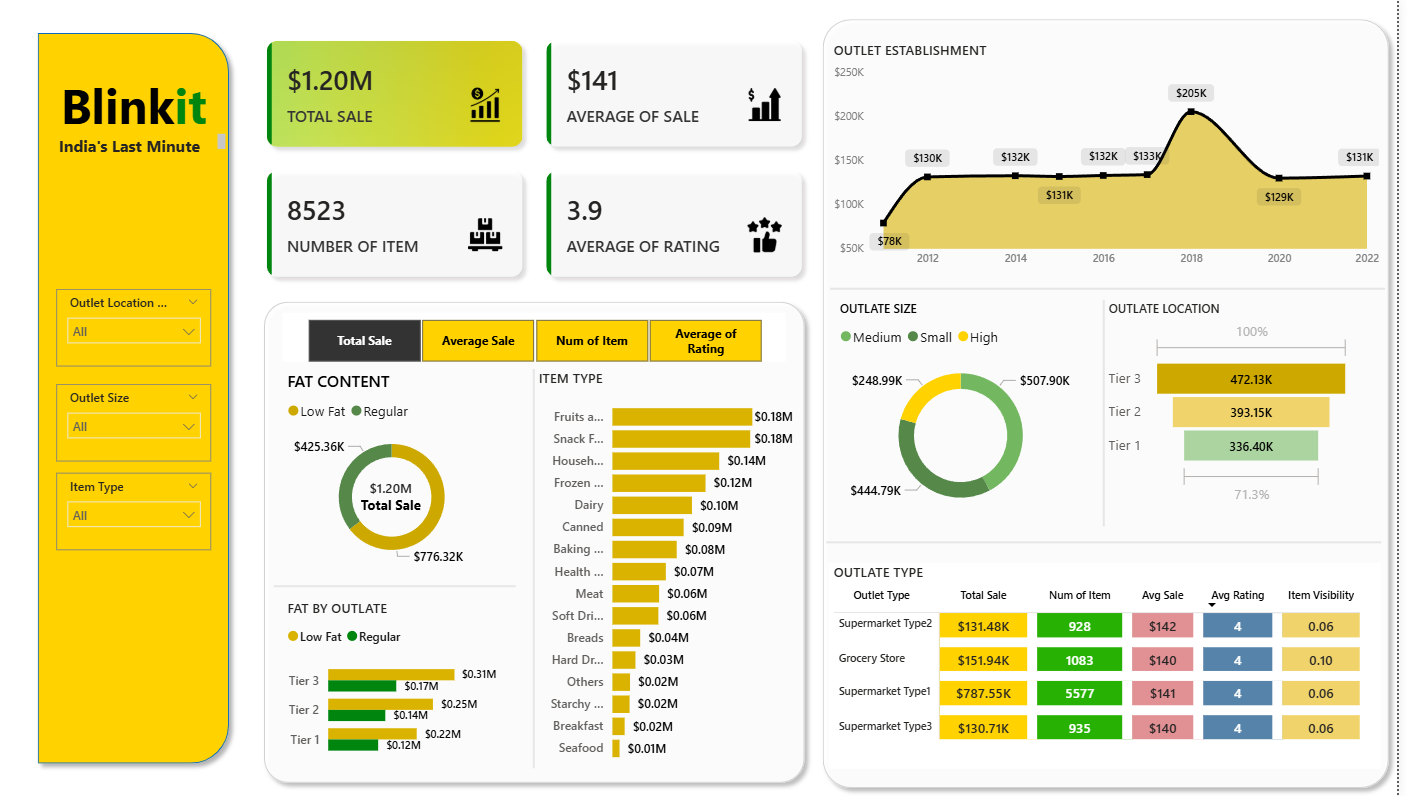

Layout of this report page (visuals, bound fields, positions):
{"tool":"powerbi","page":{"name":"Page 1","canvas":[1400,800],"ordinal":0},"visuals":[{"type":"shape","box":[28.7,24.5,209.6,750],"z":0},{"type":"textbox","box":[44.7,69.1,177.7,76.6],"z":1000},{"type":"textbox","box":[36.2,129.8,194.7,30.9],"z":2000},{"type":"cardVisual","fields":{"Data":["BlinkIT Grocery Data.Total Sale","BlinkIT Grocery Data.Average Sale","BlinkIT Grocery Data.Num of Item","BlinkIT Grocery Data.Average of Rating"]},"box":[250,24.5,570.2,270.2],"z":3000},{"type":"shape","box":[255.3,294.7,559.6,500],"z":4000},{"type":"donutChart","title":"FAT CONTENT","fields":{"Y":["BlinkIT Grocery Data.Total Sale"],"Category":["BlinkIT Grocery Data.Item Fat Content"]},"box":[283,371.3,219.1,205.3],"z":5000},{"type":"slicer","fields":{"Values":["Matrix.Matrix"]},"box":[283,313.8,504.3,48.9],"z":6000},{"type":"cardVisual","fields":{"Data":["BlinkIT Grocery Data.Total Sale"]},"box":[343.6,463.8,97.9,63.8],"z":7000},{"type":"clusteredBarChart","title":"FAT BY OUTLATE","fields":{"Y":["BlinkIT Grocery Data.Total Sale"],"Category":["BlinkIT Grocery Data.Outlet Location Type"],"Series":["BlinkIT Grocery Data.Item Fat Content"]},"box":[283,601.1,219.1,170.2],"z":8000},{"type":"shape","box":[274.5,576.6,242.6,24.5],"z":9000},{"type":"shape","box":[517,371.3,35.1,400],"z":10000},{"type":"barChart","title":"ITEM TYPE","fields":{"Y":["BlinkIT Grocery Data.Total Sale"],"Category":["BlinkIT Grocery Data.Item Type"]},"box":[535.1,371.3,264.9,403.2],"z":11000},{"type":"shape","box":[814.9,11.7,585.1,788.3],"z":12000},{"type":"lineChart","title":" OUTLET ESTABLISHMENT","fields":{"Y":["BlinkIT Grocery Data.Total Sale"],"Category":["BlinkIT Grocery Data.Outlet Establishment Year"]},"box":[830.9,41.5,556.4,236.2],"z":13000},{"type":"shape","box":[831.9,277.7,556.4,24.5],"z":14000},{"type":"donutChart","title":"OUTLATE SIZE","fields":{"Y":["BlinkIT Grocery Data.Total Sale"],"Category":["BlinkIT Grocery Data.Outlet Size"]},"box":[836.2,302.1,252.1,225.5],"z":15000},{"type":"funnel","title":"OUTLATE LOCATION","fields":{"Category":["BlinkIT Grocery Data.Outlet Location Type"],"Y":["Sum(BlinkIT Grocery Data.Sales)"]},"box":[1106.4,302.1,252.1,208.5],"z":16000},{"type":"shape","box":[1088.3,302.1,35.1,226.6],"z":17000},{"type":"shape","box":[827.7,535.1,556.4,19.1],"z":18000},{"type":"pivotTable","title":"OUTLATE TYPE","fields":{"Rows":["BlinkIT Grocery Data.Outlet Type"],"Values":["BlinkIT Grocery Data.Total Sale","BlinkIT Grocery Data.Num of Item","BlinkIT Grocery Data.Average Sale","BlinkIT Grocery Data.Average of Rating","Avg(BlinkIT Grocery Data.Item Visibility)"]},"box":[830.9,564.9,553.2,206.4],"z":19000},{"type":"slicer","fields":{"Values":["BlinkIT Grocery Data.Outlet Location Type"]},"box":[56.4,290.4,155.3,77.7],"z":19001},{"type":"slicer","fields":{"Values":["BlinkIT Grocery Data.Outlet Size"]},"box":[56.4,386.2,155.3,77.7],"z":19002},{"type":"slicer","fields":{"Values":["BlinkIT Grocery Data.Item Type"]},"box":[56.4,474.5,155.3,77.7],"z":19003}]}

Visuals, with their boxes in screenshot pixels (x1, y1, x2, y2), scaled from the page's 1400x800 canvas onto the 1407x796 screenshot:
shape: [29, 24, 239, 771]
textbox: [45, 69, 224, 145]
textbox: [36, 129, 232, 160]
cardVisual - BlinkIT Grocery Data.Total Sale x BlinkIT Grocery Data.Average Sale: [251, 24, 824, 293]
shape: [257, 293, 819, 791]
"FAT CONTENT" donutChart: [284, 369, 505, 574]
slicer - Matrix.Matrix: [284, 312, 791, 361]
cardVisual - BlinkIT Grocery Data.Total Sale: [345, 461, 444, 525]
"FAT BY OUTLATE" clusteredBarChart: [284, 598, 505, 767]
shape: [276, 574, 520, 598]
shape: [520, 369, 555, 767]
"ITEM TYPE" barChart: [538, 369, 804, 771]
shape: [819, 12, 1406, 795]
" OUTLET ESTABLISHMENT" lineChart: [835, 41, 1394, 276]
shape: [836, 276, 1395, 301]
"OUTLATE SIZE" donutChart: [840, 301, 1094, 525]
"OUTLATE LOCATION" funnel: [1112, 301, 1365, 508]
shape: [1094, 301, 1129, 526]
shape: [832, 532, 1391, 551]
"OUTLATE TYPE" pivotTable: [835, 562, 1391, 767]
slicer - BlinkIT Grocery Data.Outlet Location Type: [57, 289, 213, 366]
slicer - BlinkIT Grocery Data.Outlet Size: [57, 384, 213, 462]
slicer - BlinkIT Grocery Data.Item Type: [57, 472, 213, 549]
